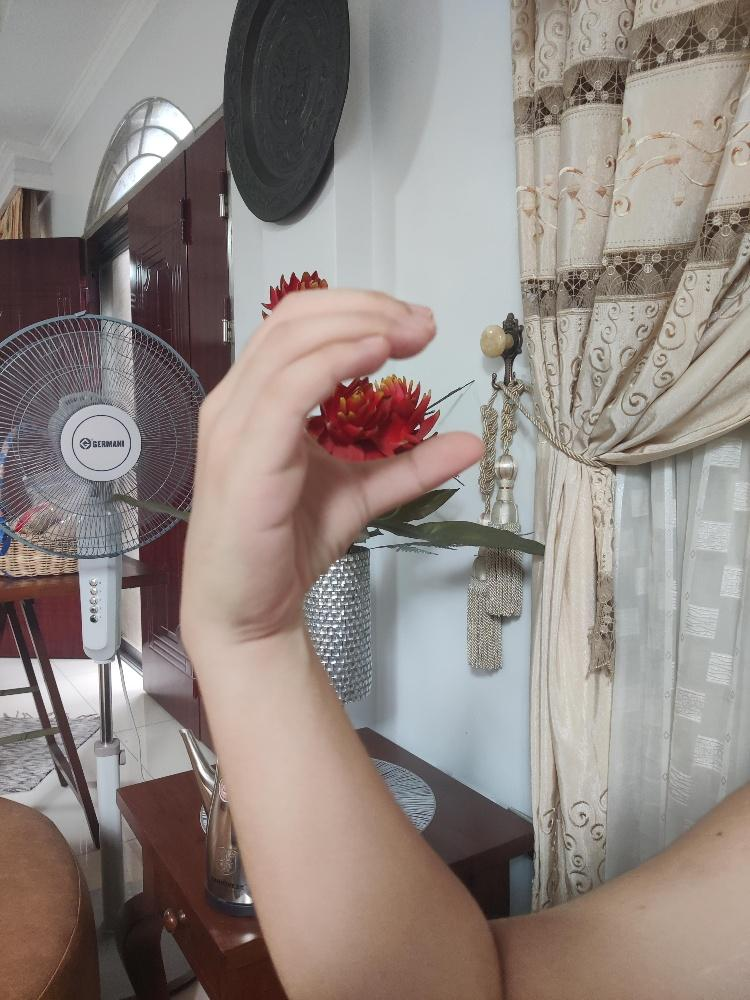c: (175, 283, 489, 643)
